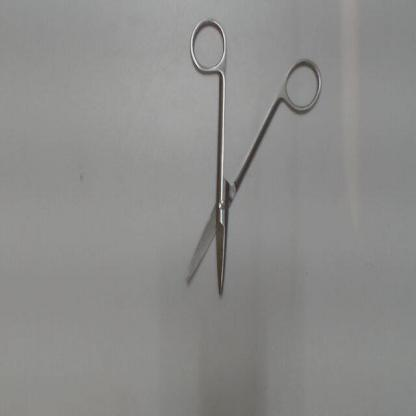Curved Mayo Scissors: (181, 12, 328, 304)
